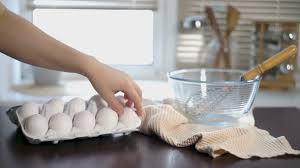Eggs: (28, 112, 51, 139)
